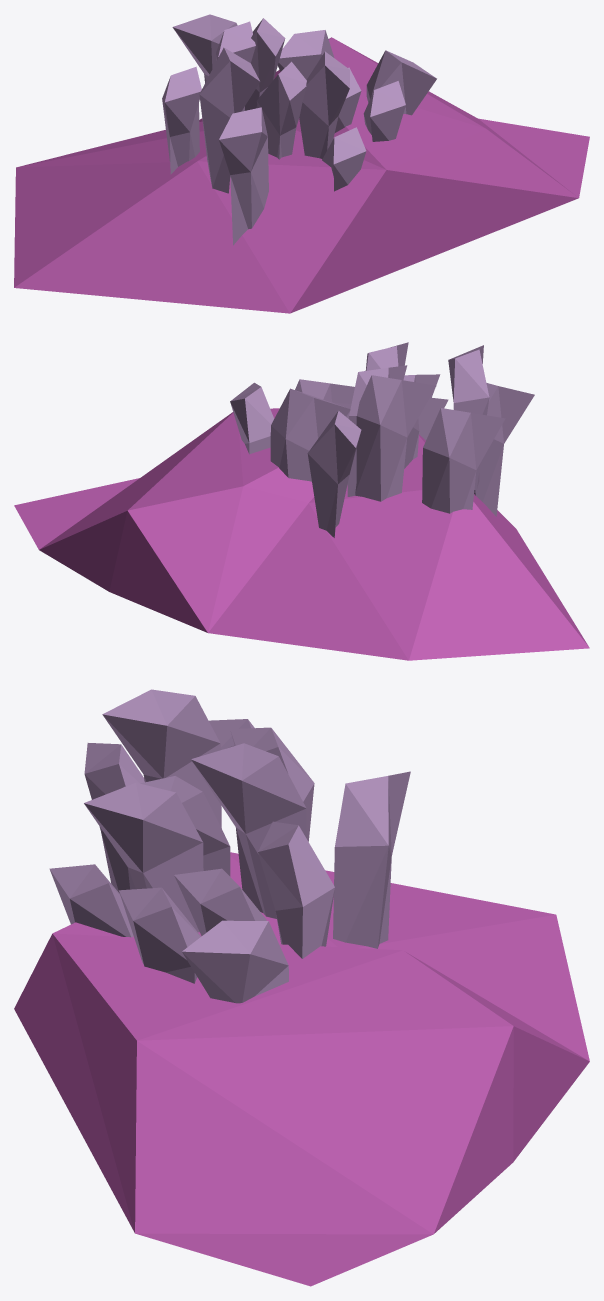
The model's file is coral-purple.obj.
The picture shows the model from 3 angles, top to bottom: view 1: azimuth 30°, elevation 25°; view 2: azimuth 150°, elevation 25°; view 3: azimuth 270°, elevation 25°; orthographic projection. The views are drawn at different scales.
Parts seen in each view (by area): view 1: Merged_Meshes; view 2: Merged_Meshes; view 3: Merged_Meshes.
Boxes of the visible parts, x1,y1,x2,y2 form: Merged_Meshes: [14, 14, 589, 313]; Merged_Meshes: [14, 342, 589, 660]; Merged_Meshes: [14, 689, 589, 1286].
Size of the model in its own units: 2.2 by 0.8164 by 1.34.
